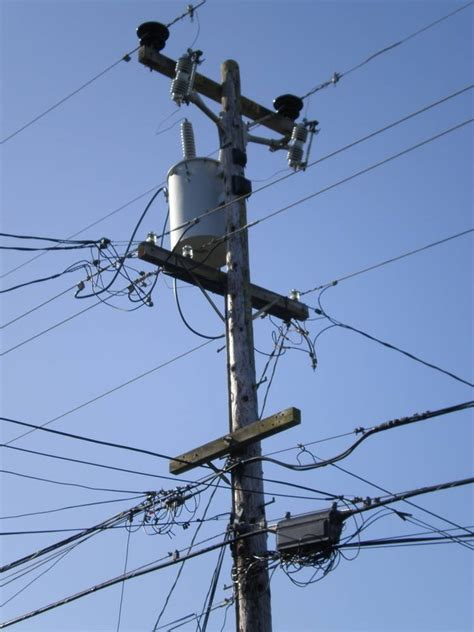pole: (106, 15, 396, 628)
